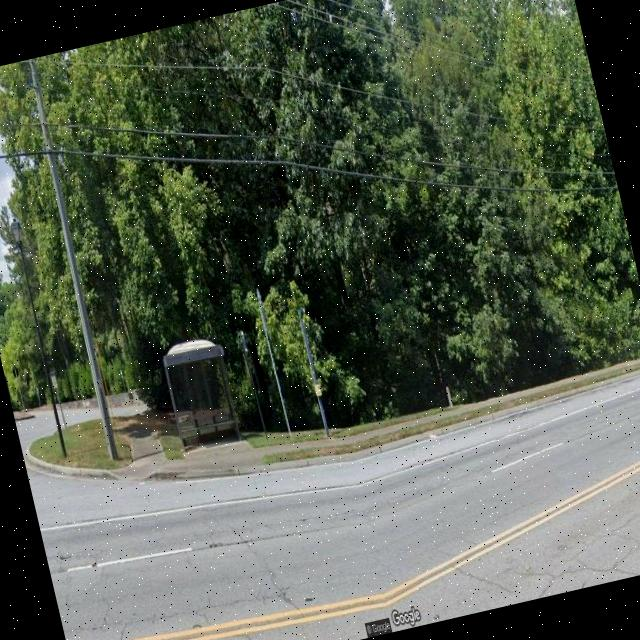seating: (180, 417, 235, 437)
shelter: (159, 333, 244, 453)
